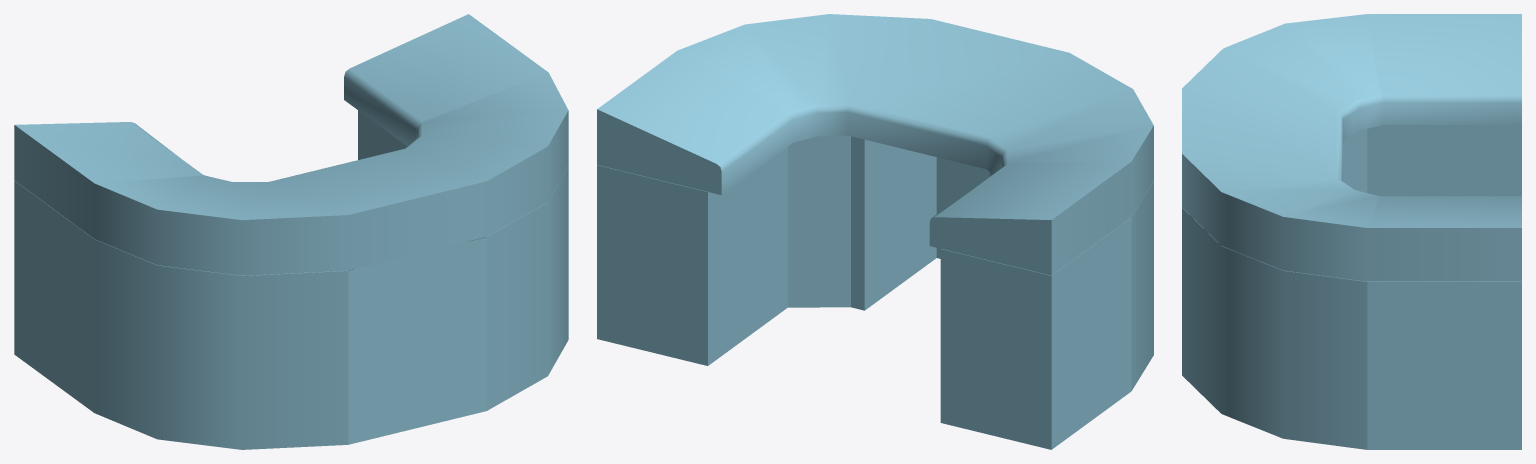
Rendered from controlPanel.FBX.
3 views of the same model, side by side, from view 1: azimuth 30°, elevation 25°; view 2: azimuth 150°, elevation 25°; view 3: azimuth 270°, elevation 25° (orthographic). The views are drawn at different scales.
Parts seen in each view (by area): view 1: ConsoleBottom, ConsoleTop; view 2: ConsoleBottom, ConsoleTop; view 3: ConsoleTop, ConsoleBottom.
Part boxes in pixels (box(x1,y1,x2,y2)): ConsoleBottom: box(14, 110, 568, 449); ConsoleTop: box(14, 14, 568, 275); ConsoleBottom: box(597, 135, 1153, 449); ConsoleTop: box(597, 14, 1153, 275); ConsoleTop: box(1182, 14, 1521, 281); ConsoleBottom: box(1182, 125, 1521, 449).
Bounding box in the file's own units: 1.64 × 0.7927 × 1.1.
